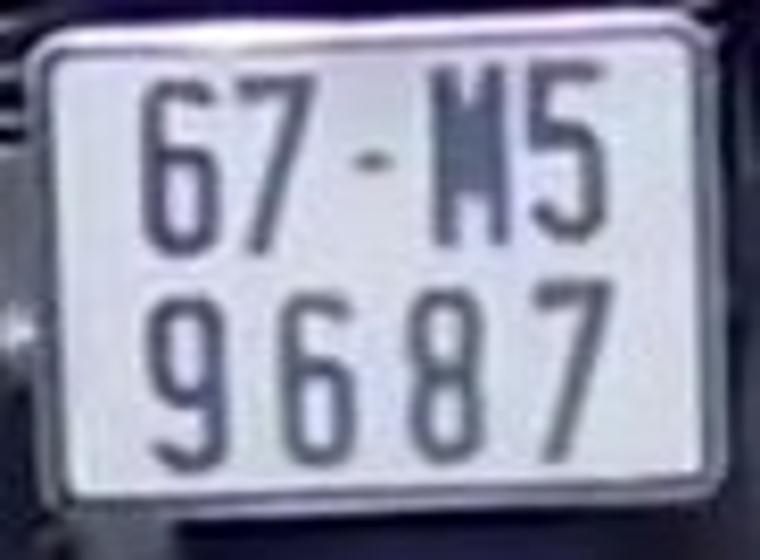-: (350, 153, 390, 171)
5: (527, 59, 606, 239)
6: (272, 291, 357, 464), (138, 77, 218, 258)
7: (532, 281, 616, 466), (235, 71, 316, 252)
8: (403, 291, 484, 461)
9: (140, 301, 228, 474)
M: (429, 61, 509, 242)
